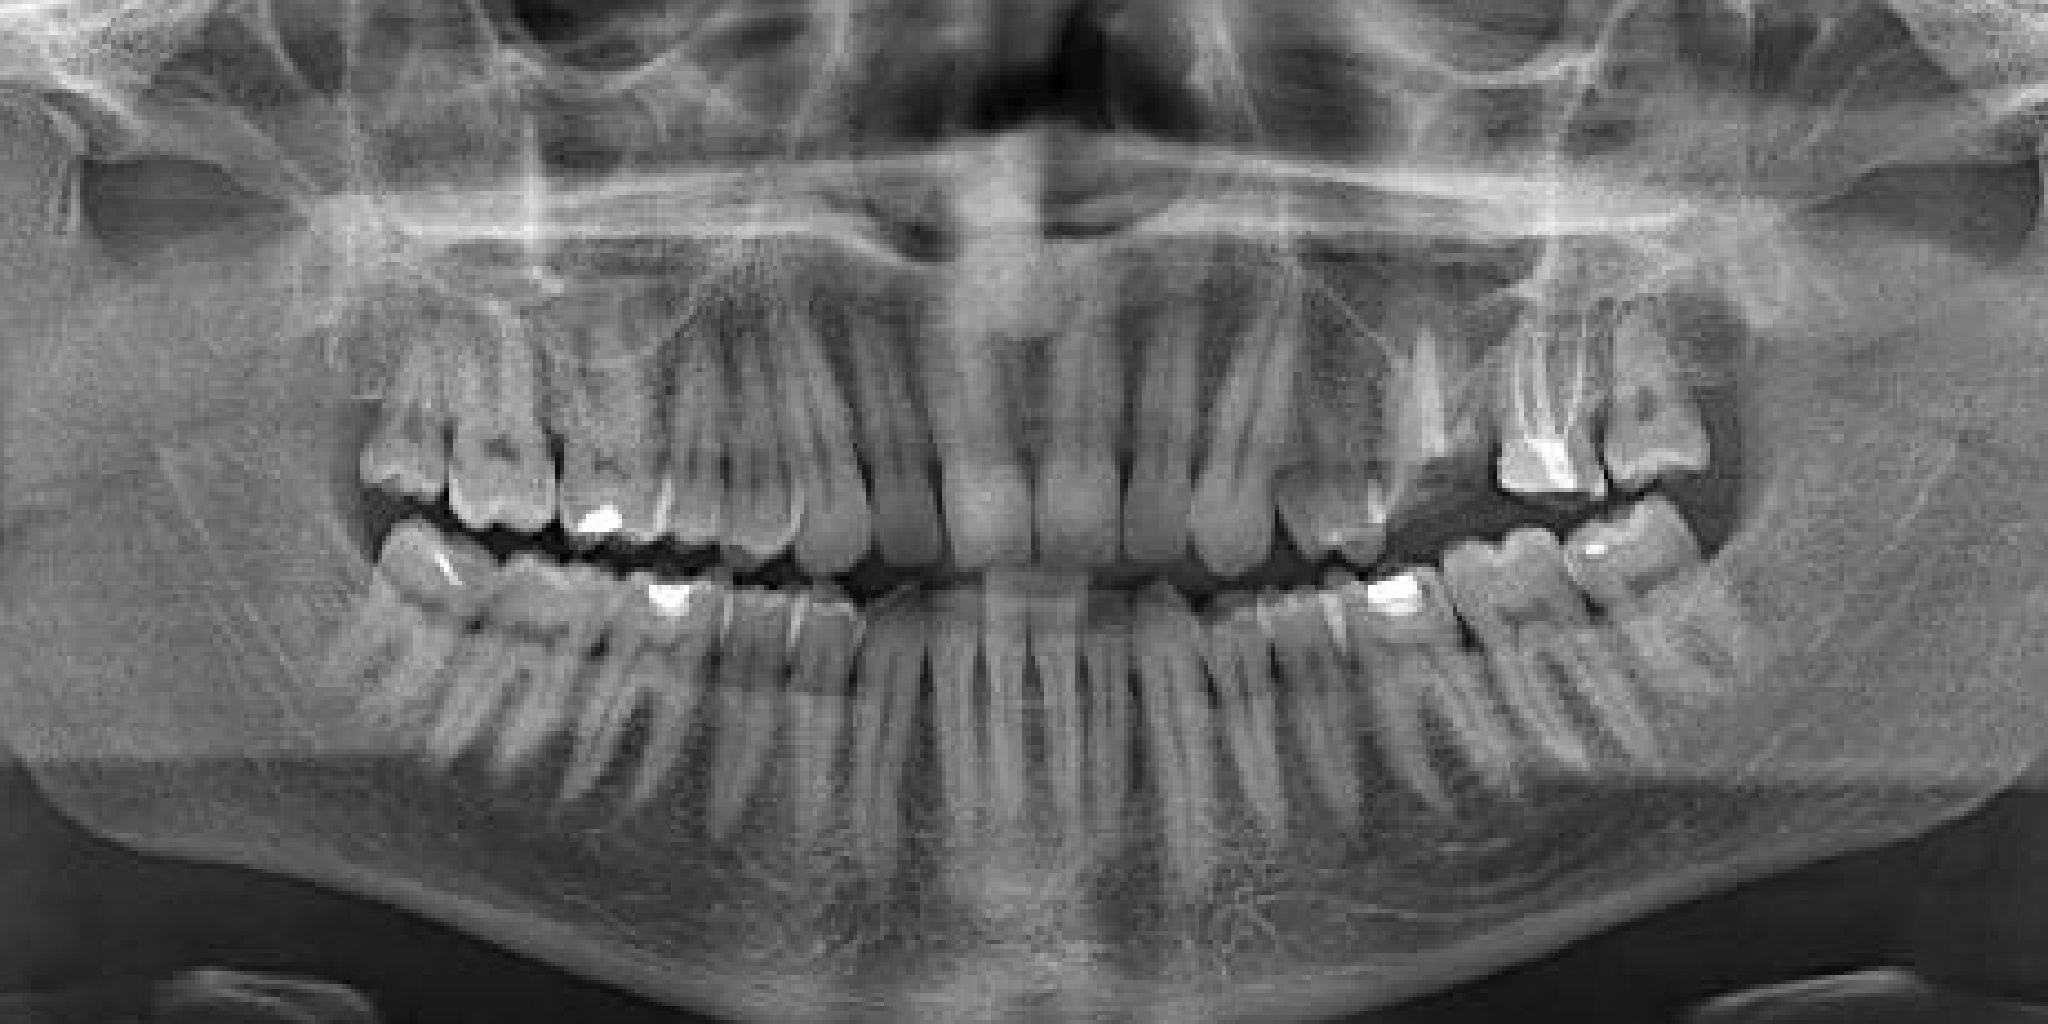Tooth: (1369, 451, 1770, 889), (310, 462, 700, 906), (1243, 485, 1629, 929), (440, 491, 812, 936), (1501, 404, 1842, 850), (327, 172, 645, 616), (242, 428, 555, 871), (733, 200, 1031, 637), (1108, 185, 1404, 623), (660, 199, 956, 636), (474, 175, 765, 613), (819, 199, 1110, 636), (588, 513, 879, 950), (1166, 195, 1451, 630), (1186, 519, 1471, 953), (1115, 519, 1400, 953), (1510, 152, 1770, 577), (1051, 549, 1311, 974), (936, 521, 1196, 947), (832, 524, 1092, 950), (683, 519, 936, 942), (1044, 201, 1290, 622), (887, 515, 1128, 934), (630, 212, 871, 631), (296, 182, 530, 598), (1428, 157, 1661, 573), (765, 539, 999, 956), (963, 206, 1196, 622), (1000, 519, 1223, 927), (1315, 168, 1536, 579), (585, 199, 806, 609)
